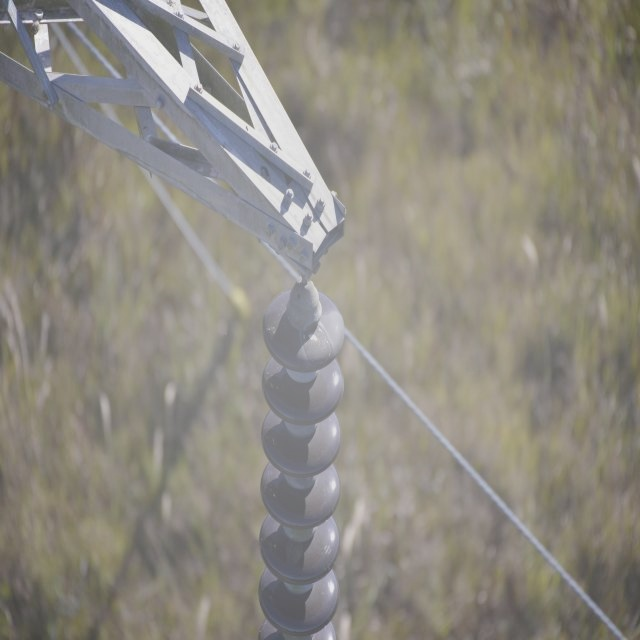insulator: (258, 286, 344, 640)
